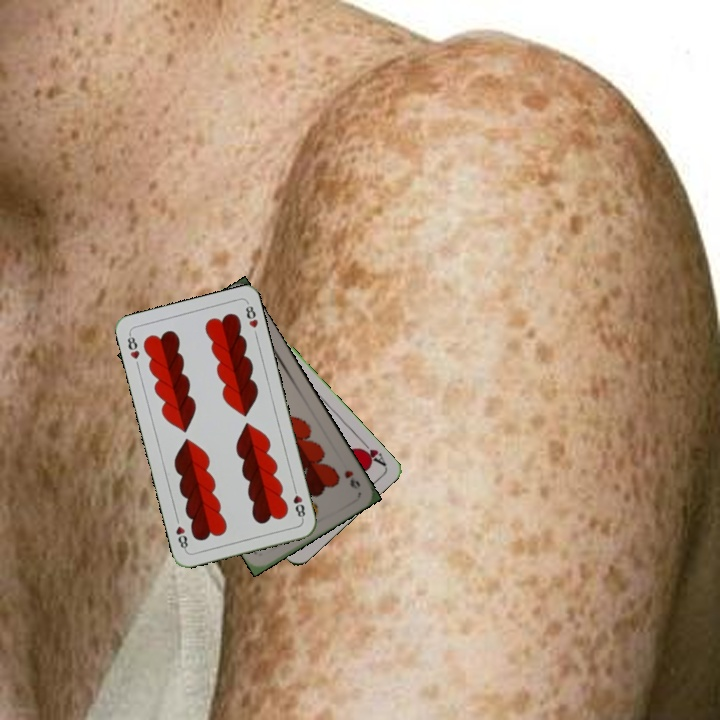H8: (289, 482, 308, 522), (123, 330, 142, 362)
H9: (340, 466, 363, 492)
HA: (353, 435, 388, 468)
